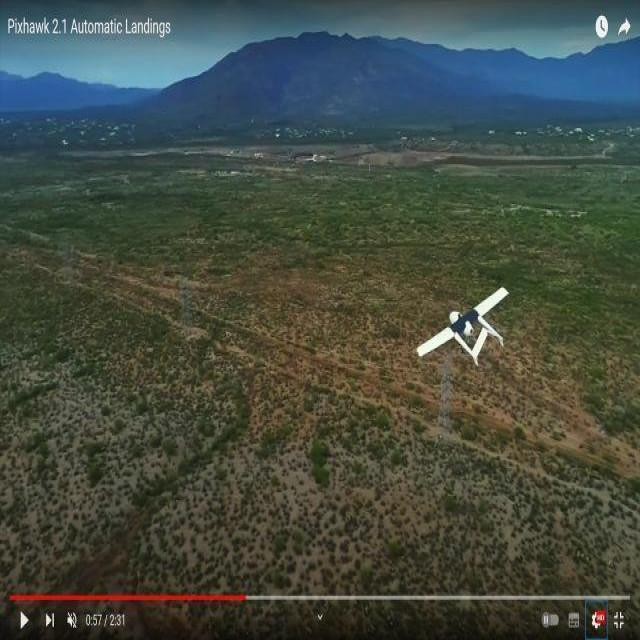iha: (436, 301, 498, 342)
